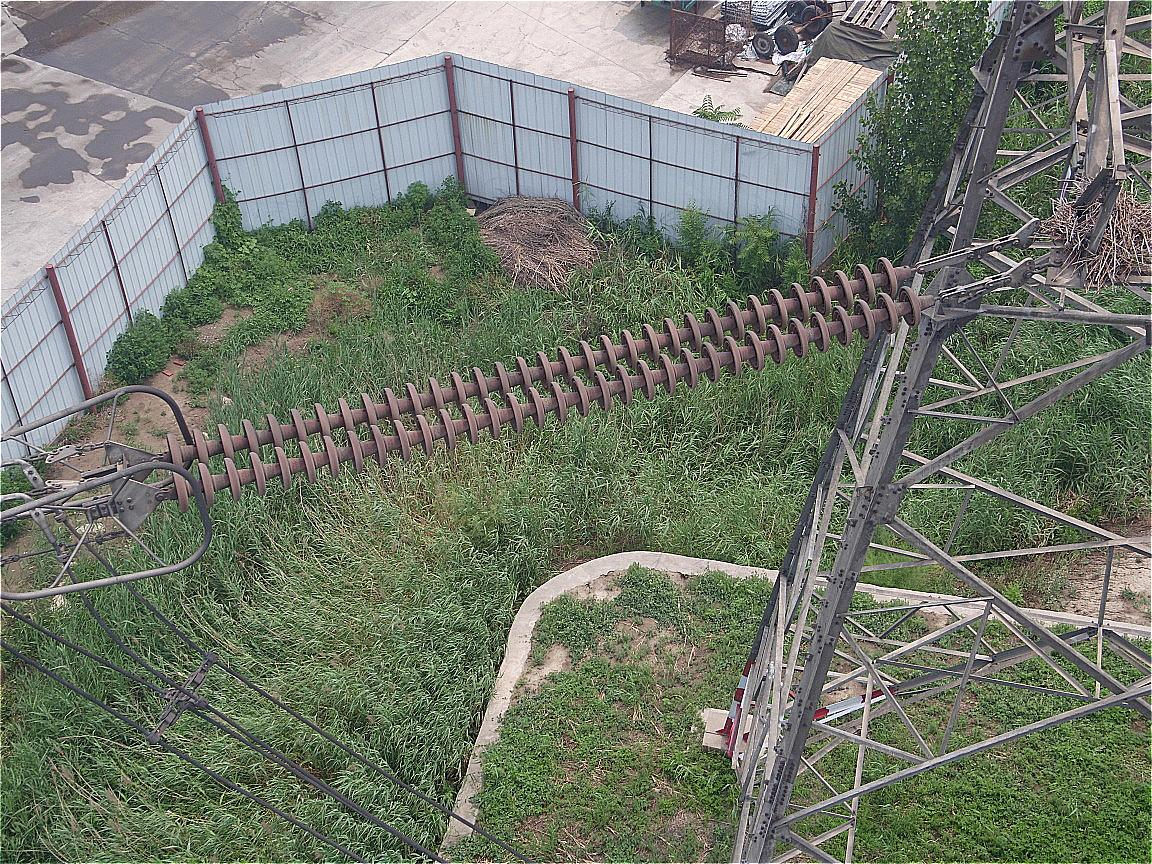insultor1: (157, 247, 931, 520)
